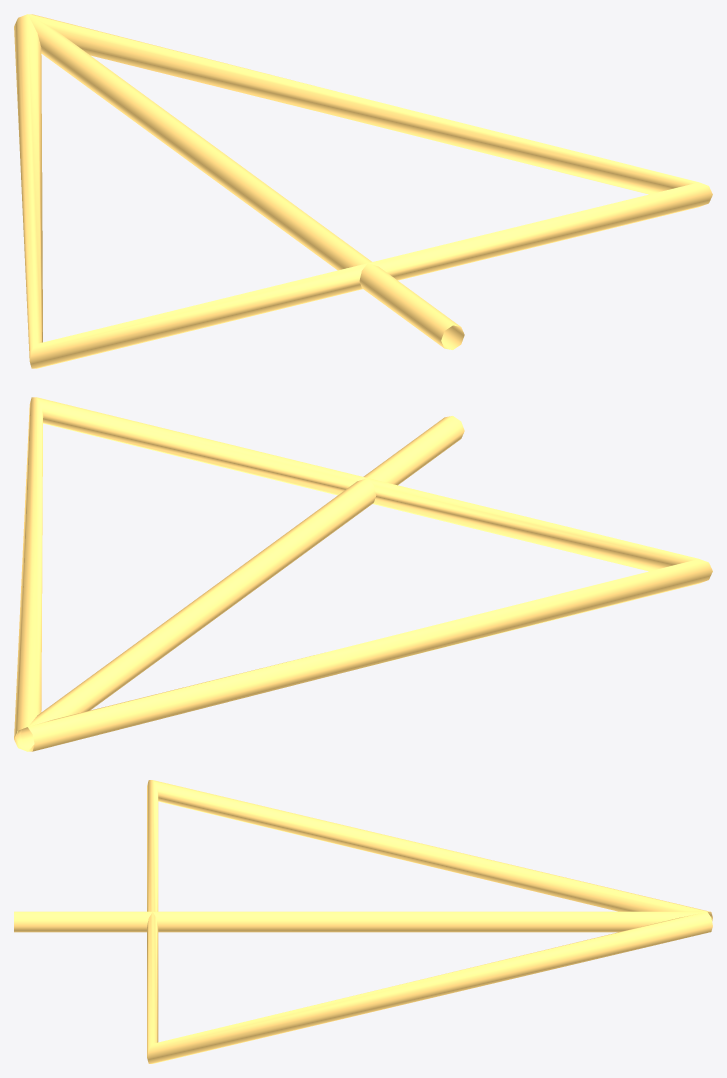
The model's file is rune_2.glb.
3 views of the same model, one above another, from view 1: azimuth 30°, elevation 25°; view 2: azimuth 150°, elevation 25°; view 3: azimuth 270°, elevation 25° (orthographic). The views are drawn at different scales.
Visible parts, largest first — view 1: Rune_2; view 2: Rune_2; view 3: Rune_2.
Boxes of the visible parts, x1=… form: Rune_2: x1=14, y1=14, x2=712, y2=368; Rune_2: x1=14, y1=397, x2=712, y2=751; Rune_2: x1=14, y1=780, x2=712, y2=1063.
Size of the model in its own units: 0.026 by 0.0009 by 0.0282.
